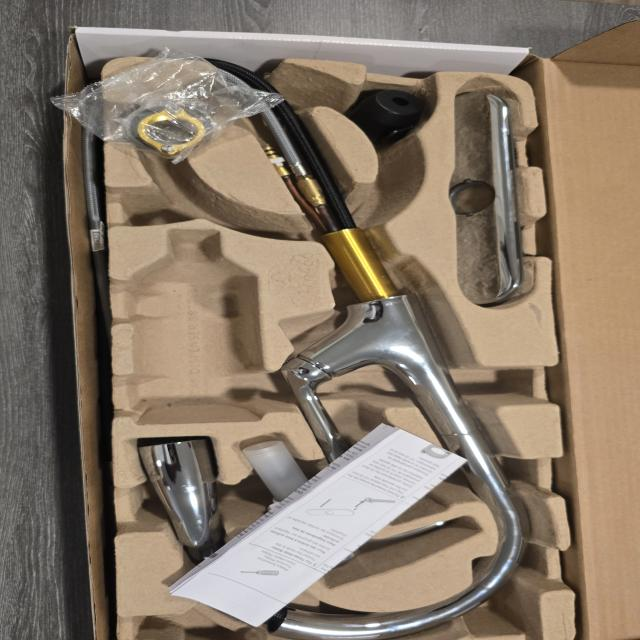1o: (138, 65, 531, 638)
2o: (241, 440, 445, 562)
3m: (129, 228, 258, 423)
4: (448, 91, 522, 305)
5: (346, 87, 430, 152)
6: (50, 47, 290, 165)
7m: (122, 175, 271, 234)
8: (168, 423, 471, 629)
